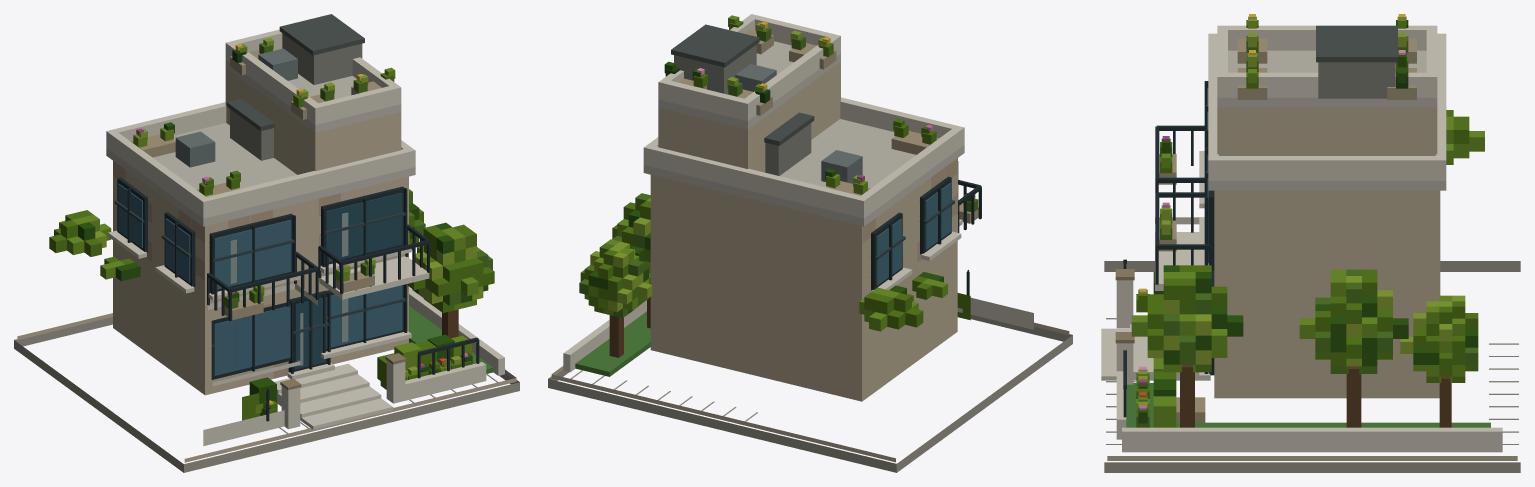
File: SM_StreetFrontage_009.fbx
The picture shows the model from 3 angles, left to right: view 1: azimuth 30°, elevation 25°; view 2: azimuth 150°, elevation 25°; view 3: azimuth 270°, elevation 25°; orthographic projection. The views are drawn at different scales.
Visible parts, largest first — view 1: SM_StreetFrontage_009; view 2: SM_StreetFrontage_009; view 3: SM_StreetFrontage_009.
Boxes of the visible parts, box(x1,y1,x2,y2) form: SM_StreetFrontage_009: box(14, 14, 519, 472); SM_StreetFrontage_009: box(548, 14, 1072, 472); SM_StreetFrontage_009: box(1101, 14, 1520, 472).
Bounding box in the file's own units: 7.99 × 6.96 × 6.87.
